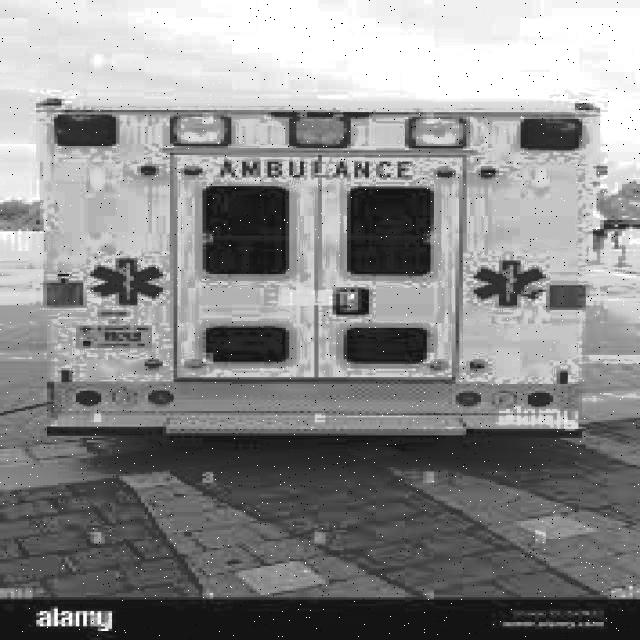LCV: (41, 103, 593, 435)
